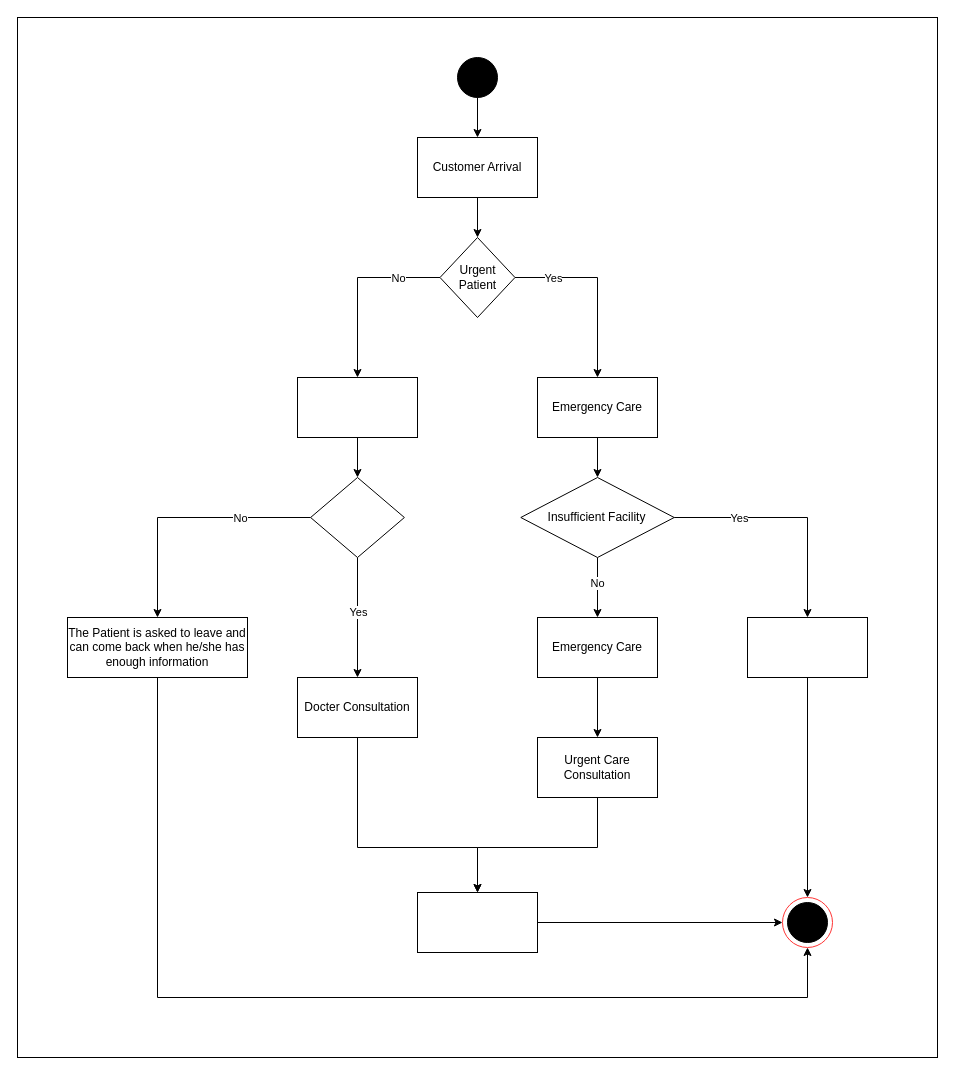
Image size: 955x1075. Some labels were removed from this diagram. The shapes that lost their labels are listed below. From the top down, each one's centre as x and y in pixels, then its label:
pixel 357 407: Check In
pixel 357 517: Enough Information
pixel 807 647: Transfer the Patient to another hospital
pixel 477 922: Pharmacy & Payment
